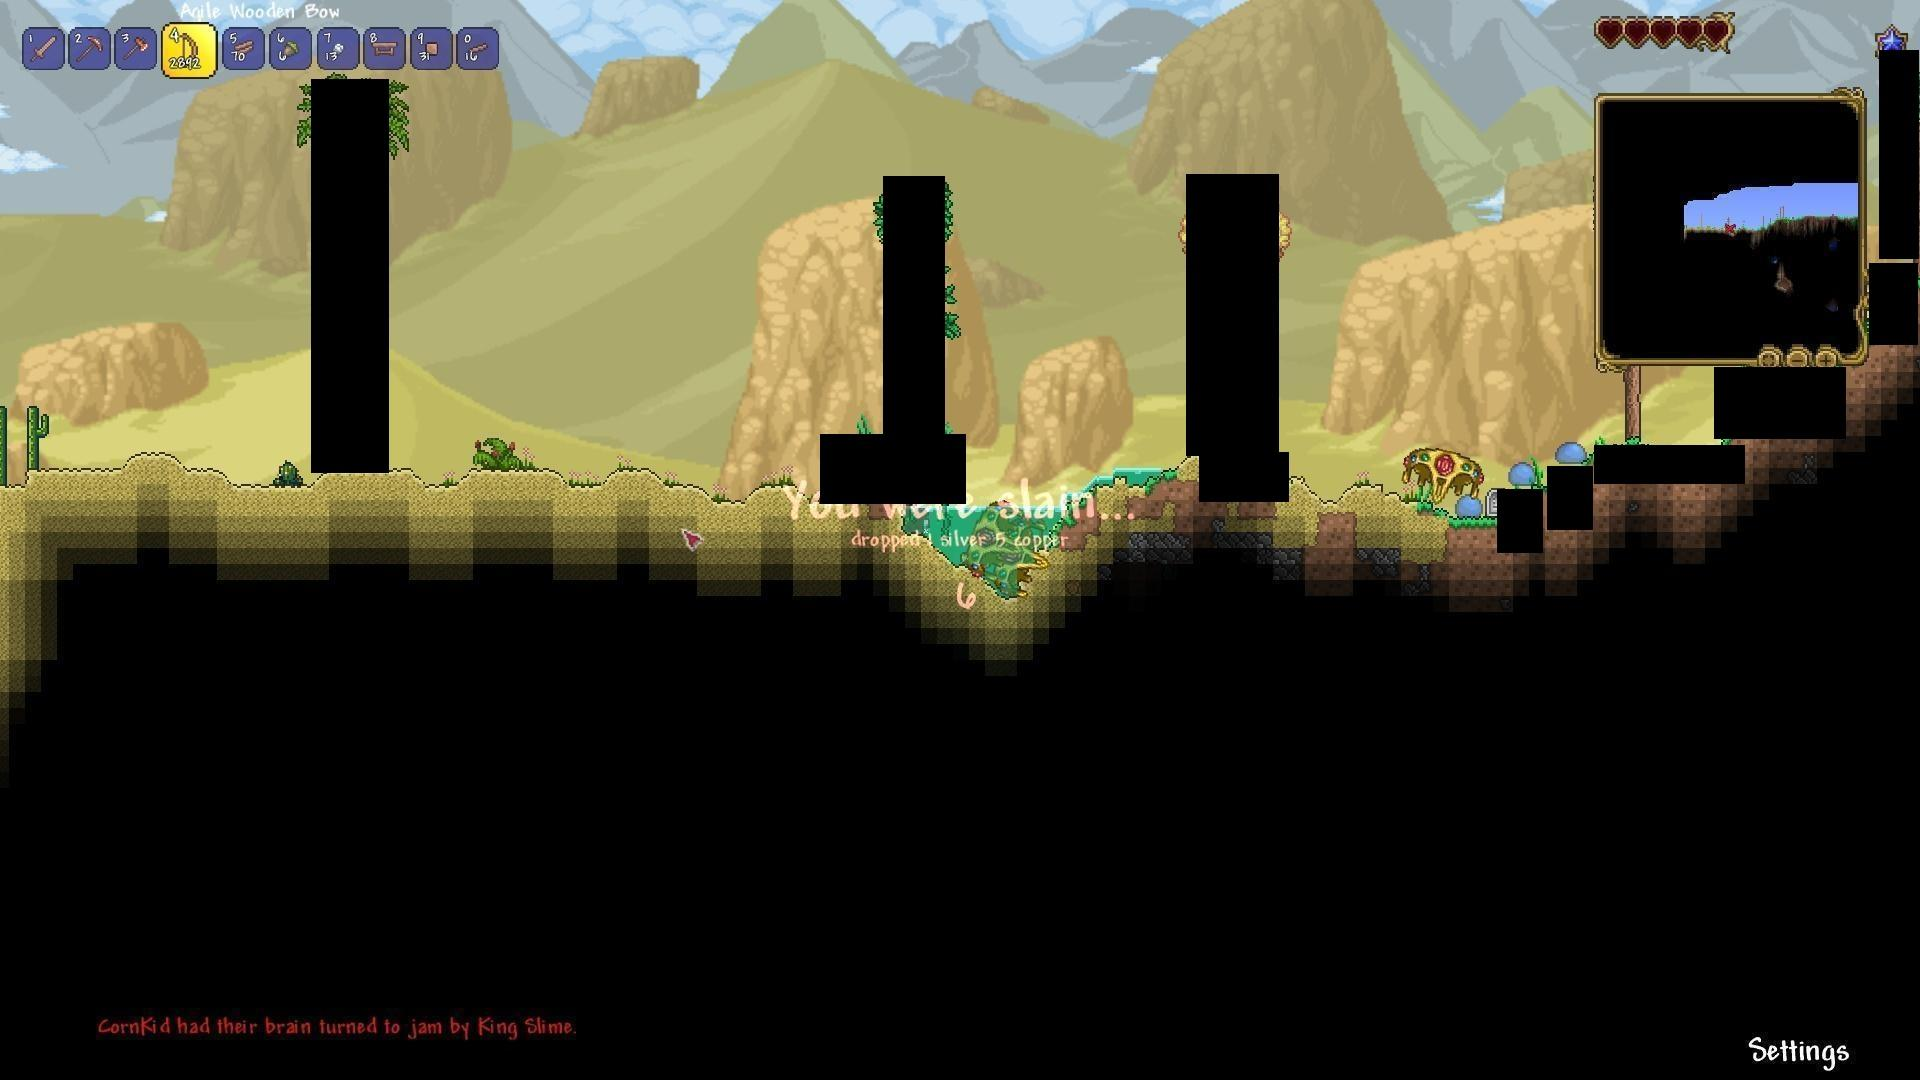slime: (1449, 493, 1486, 521), (1506, 460, 1542, 488), (1553, 438, 1589, 465), (1880, 32, 1907, 57)
wood: (228, 33, 260, 63)
workbench: (367, 34, 404, 59)
